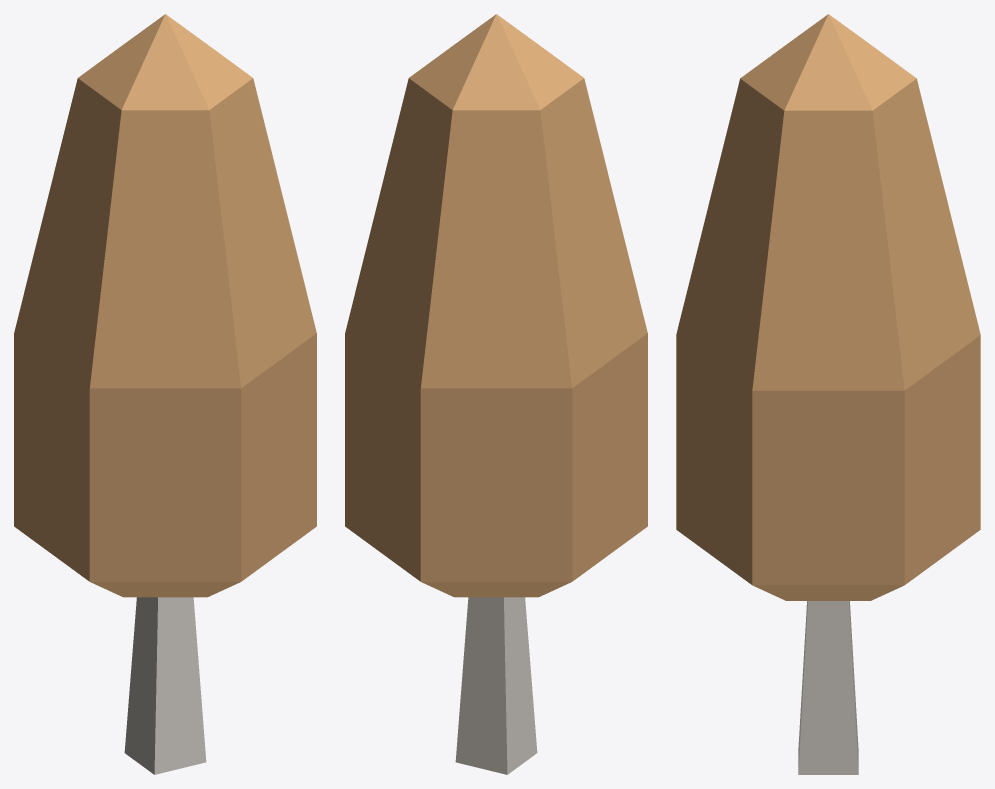
Rendered from tree_small_fall.glb.
3 views of the same model, side by side, from view 1: azimuth 30°, elevation 25°; view 2: azimuth 150°, elevation 25°; view 3: azimuth 270°, elevation 25° (orthographic).
Parts seen in each view (by area): view 1: tree_small_fall; view 2: tree_small_fall; view 3: tree_small_fall.
Part boxes in pixels (x1=…): tree_small_fall: x1=14, y1=14, x2=316, y2=774; tree_small_fall: x1=345, y1=14, x2=647, y2=774; tree_small_fall: x1=676, y1=14, x2=980, y2=774.
Bounding box in the file's own units: 0.3546 × 1.11 × 0.4095.
